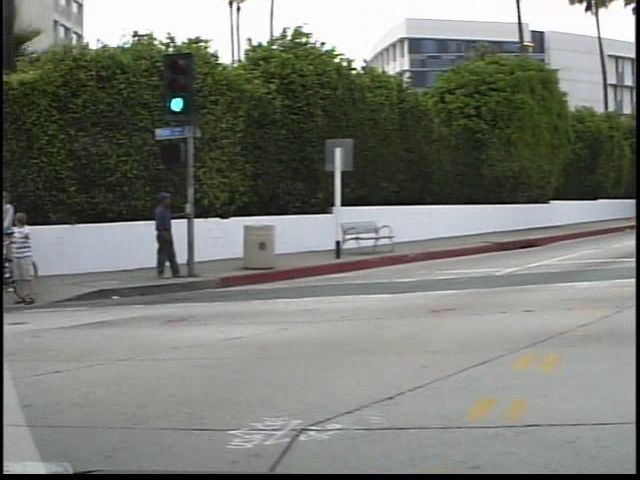person: (3, 183, 40, 306), (144, 188, 185, 287)
